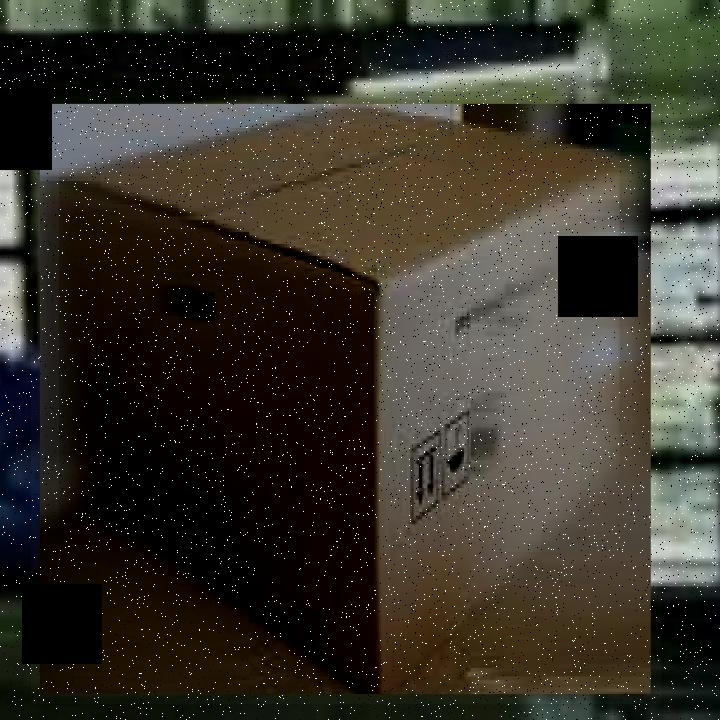box: (31, 96, 661, 704)
